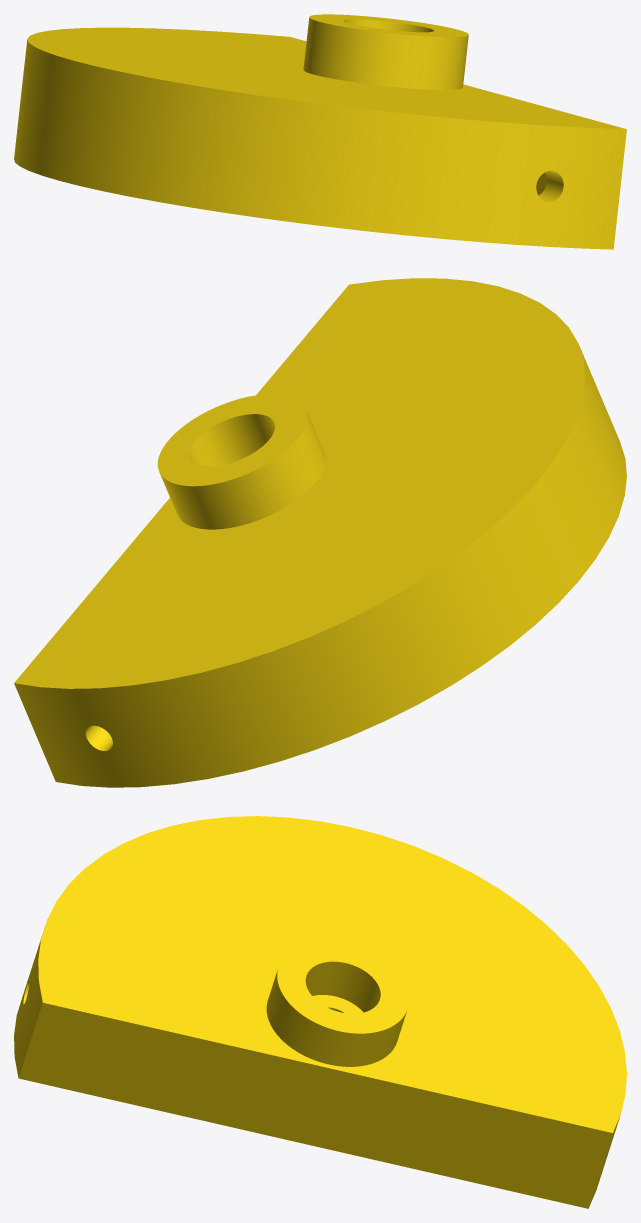
File: right_antenna_holder.gltf
The picture shows the model from 3 angles, top to bottom: view 1: azimuth 30°, elevation 25°; view 2: azimuth 150°, elevation 25°; view 3: azimuth 270°, elevation 25°; orthographic projection. The views are drawn at different scales.
Parts seen in each view (by area): view 1: mesh7, mesh5, mesh1, mesh0, mesh2, mesh8; view 2: mesh5, mesh7, mesh1, mesh0, mesh2; view 3: mesh5, mesh6, mesh0, mesh1, mesh2, mesh7.
Boxes of the visible parts, bbox=[...] form: mesh7: bbox=[14, 39, 626, 249]; mesh5: bbox=[27, 27, 626, 129]; mesh1: bbox=[303, 18, 468, 89]; mesh0: bbox=[309, 14, 468, 37]; mesh2: bbox=[344, 19, 434, 32]; mesh8: bbox=[538, 171, 563, 201]; mesh5: bbox=[14, 278, 584, 688]; mesh7: bbox=[14, 344, 626, 787]; mesh1: bbox=[160, 411, 325, 529]; mesh0: bbox=[157, 394, 307, 486]; mesh2: bbox=[190, 414, 274, 466]; mesh5: bbox=[38, 816, 626, 1132]; mesh6: bbox=[18, 1003, 612, 1208]; mesh0: bbox=[277, 941, 409, 1033]; mesh1: bbox=[266, 970, 406, 1066]; mesh2: bbox=[305, 961, 380, 1012]; mesh7: bbox=[14, 935, 619, 1207].
Bounding box in the file's own units: 0.027 × 0.02 × 0.0417.
